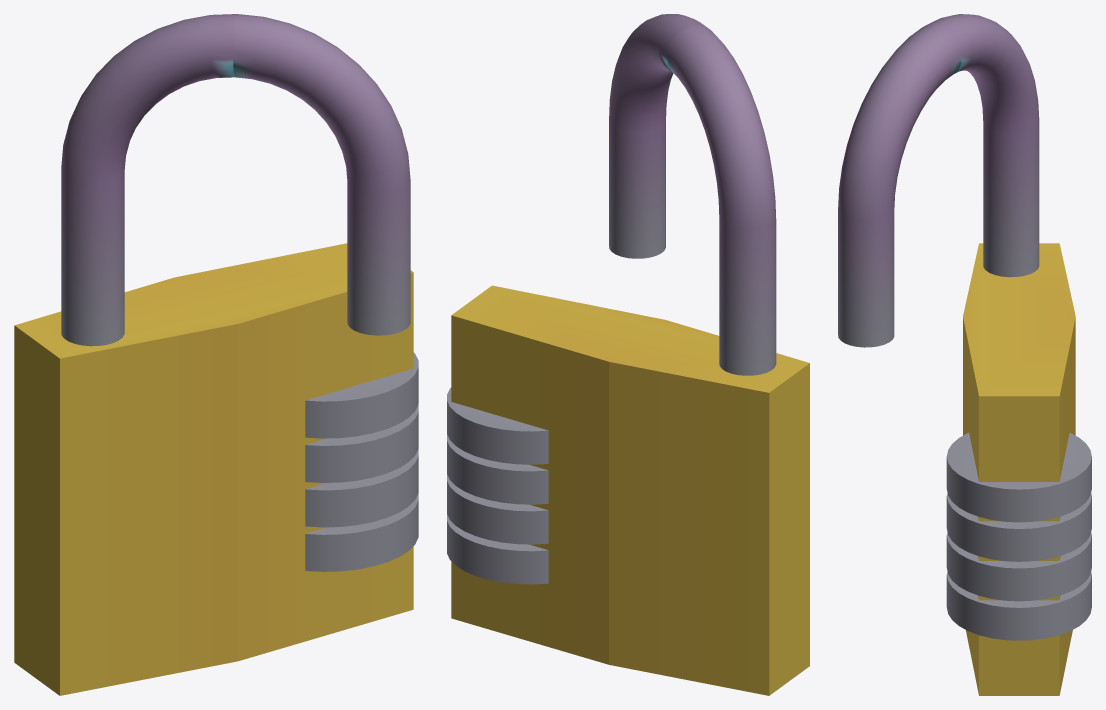
The picture shows the model from 3 angles, left to right: view 1: azimuth 30°, elevation 25°; view 2: azimuth 150°, elevation 25°; view 3: azimuth 270°, elevation 25°; orthographic projection. The views are drawn at different scales.
Visible parts, largest first — view 1: brass_body, steel_loop, band.004, band.001, band.002, band.003; view 2: brass_body, steel_loop, band.004, band.002, band.003, band.001; view 3: steel_loop, brass_body, band.004, band.001, band.003, band.002.
Part boxes in pixels (x1,y1,x2,y2): brass_body: (14,243,413,695); steel_loop: (61,14,410,346); band.004: (305,352,418,438); band.001: (305,494,418,571); band.002: (305,449,418,527); band.003: (305,405,418,482); brass_body: (451,285,809,695); steel_loop: (609,14,776,375); band.004: (447,387,548,464); band.002: (447,474,548,544); band.003: (447,434,548,504); band.001: (447,514,548,584); steel_loop: (838,14,1039,347); brass_body: (963,243,1075,695); band.004: (946,432,1091,522); band.001: (946,572,1091,640); band.003: (946,493,1091,561); band.002: (946,532,1091,601).
Size of the model in its own units: 0.0473 by 0.08 by 0.0315.
